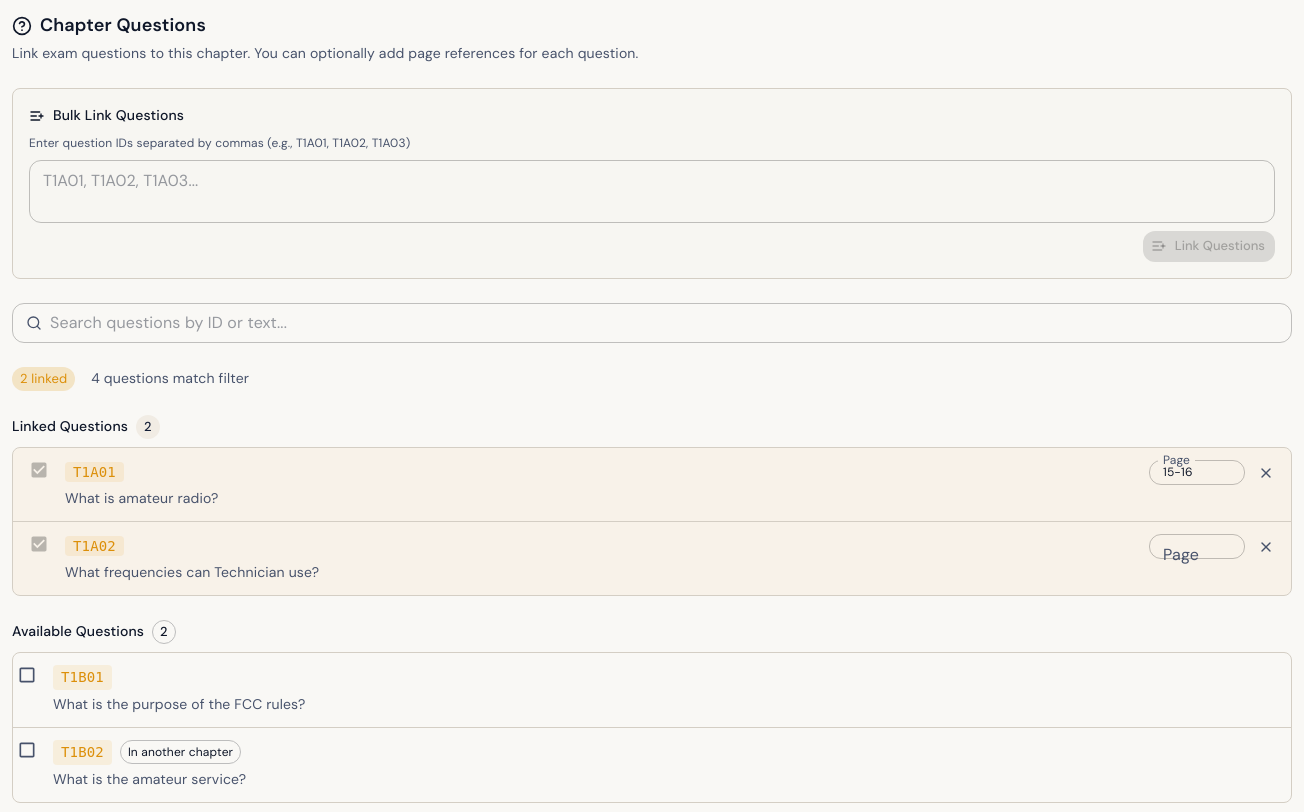
Test case: ChapterQuestionManager › Search Functionality › should show "No matching questions found" when search has no results
Expected: the text "T1A01" is shown, x1=65 y1=462 x2=124 y2=482
Type "nonexistent" into the search field with placeholder "Search questions by ID or text..." at x=671, y=323, box x1=50 y1=303 x2=1292 y2=343
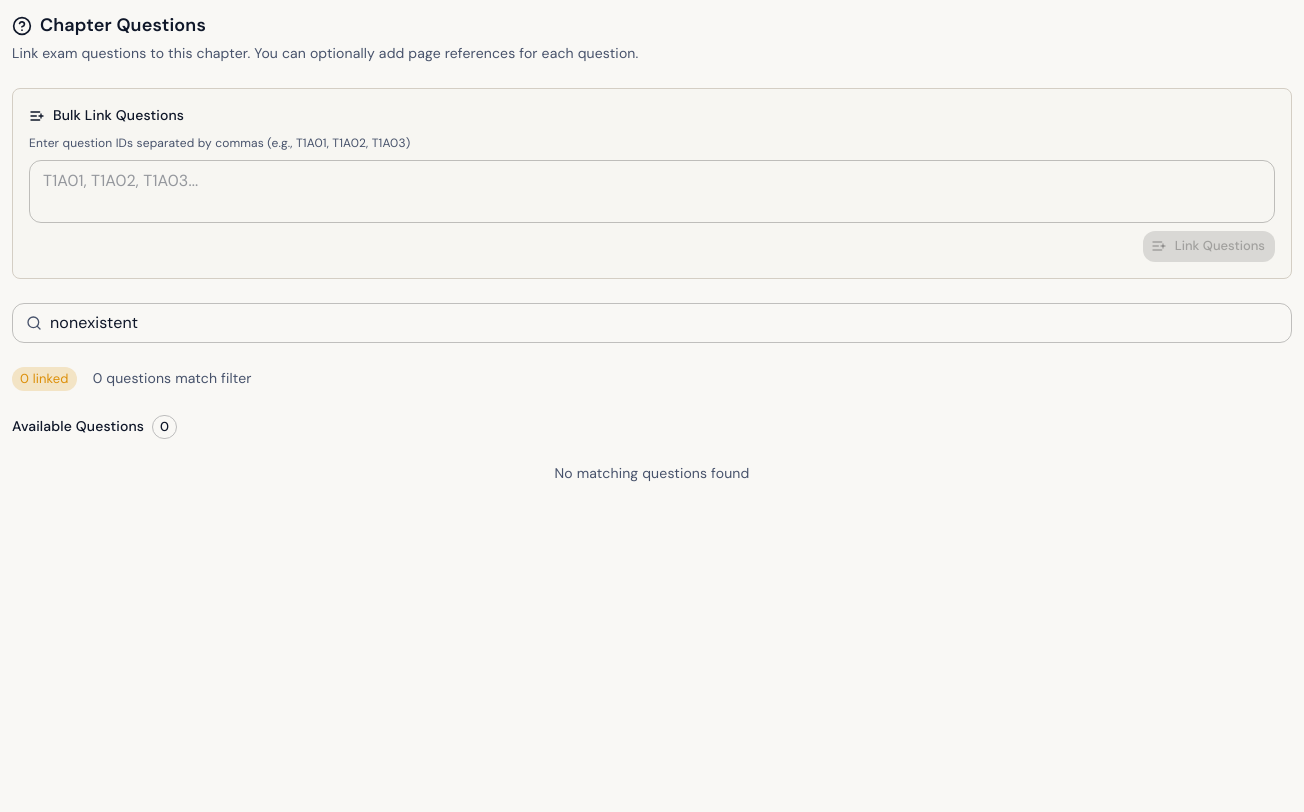
Expected: the text "No matching questions found" is shown, x1=554 y1=464 x2=750 y2=482
